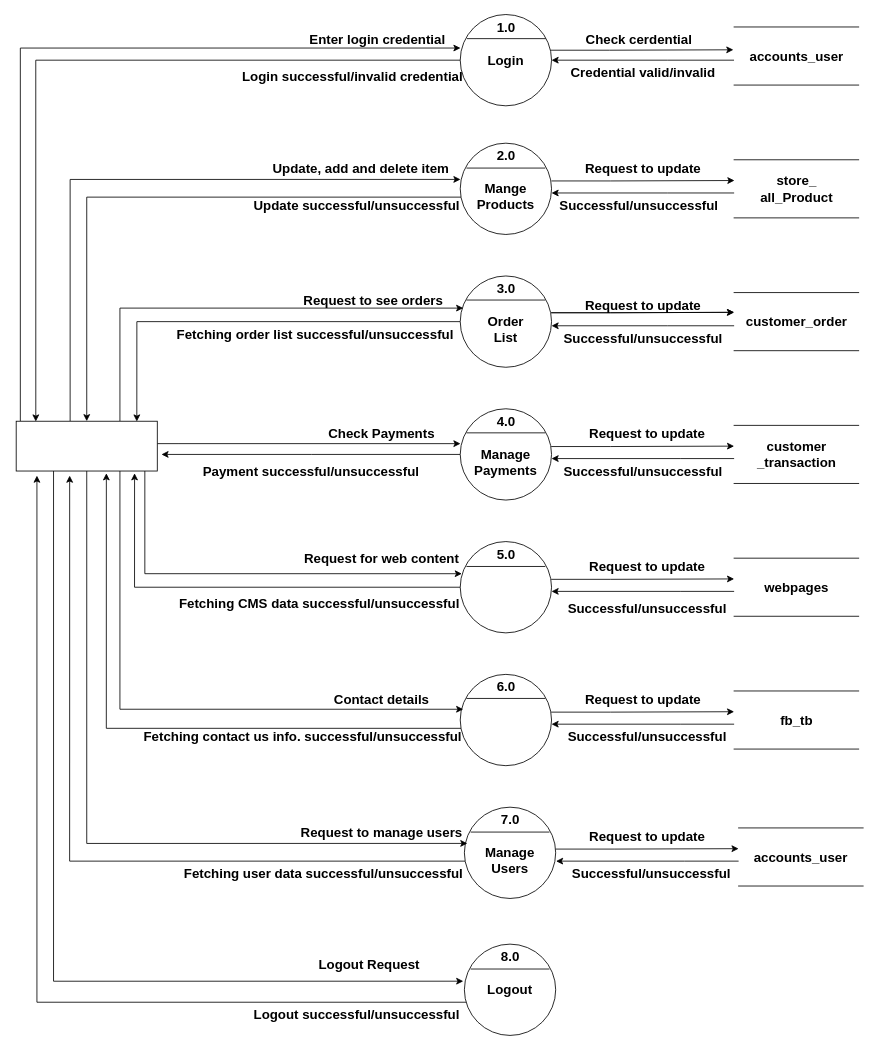
Some shapes in this 878 by 1050 pixel diagram are drawn without their labels. The shapes that lost their labels are listed below. From the top down, each one's box as (x1, y1, x2, y2) in pixels, then its label:
(15, 420, 157, 471): Admin
(459, 541, 552, 633): Manage Web Content
(459, 674, 552, 766): Manage Feedback
